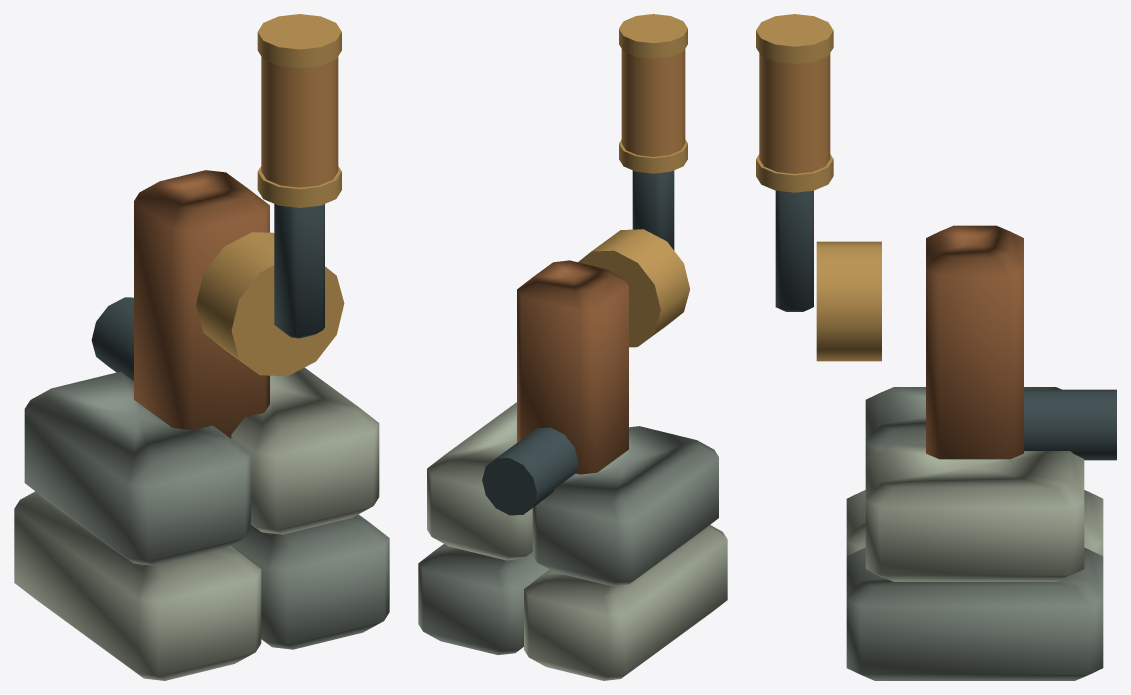
Rendered from registro.glb.
The picture shows the model from 3 angles, left to right: view 1: azimuth 30°, elevation 25°; view 2: azimuth 150°, elevation 25°; view 3: azimuth 270°, elevation 25°; orthographic projection. The views are drawn at different scales.
Parts seen in each view (by area): view 1: Malha_pedra, Malha_pedra_clara, Malha_madeira, Malha_latao2, Malha_madeira_clara, Malha_ferro, Malha_latao, Malha_ferro2; view 2: Malha_pedra, Malha_pedra_clara, Malha_madeira, Malha_latao2, Malha_madeira_clara, Malha_ferro2, Malha_latao, Malha_ferro; view 3: Malha_pedra, Malha_pedra_clara, Malha_madeira, Malha_latao2, Malha_madeira_clara, Malha_ferro2, Malha_latao, Malha_ferro.
Boxes of the visible parts, x1,y1,x2,y2 form: Malha_pedra: (24, 371, 389, 649); Malha_pedra_clara: (14, 367, 379, 680); Malha_madeira: (134, 170, 269, 438); Malha_latao2: (196, 232, 344, 376); Malha_madeira_clara: (261, 56, 338, 187); Malha_ferro: (274, 204, 324, 338); Malha_latao: (257, 14, 341, 207); Malha_ferro2: (91, 297, 133, 380); Malha_pedra: (418, 426, 718, 654); Malha_pedra_clara: (427, 402, 727, 680); Malha_madeira: (517, 260, 628, 474); Malha_latao2: (578, 229, 689, 347); Malha_madeira_clara: (621, 49, 685, 156); Malha_ferro2: (482, 427, 578, 515); Malha_latao: (619, 14, 687, 173); Malha_ferro: (632, 170, 674, 250); Malha_pedra: (846, 387, 1103, 680); Malha_pedra_clara: (846, 444, 1103, 581); Malha_madeira: (926, 225, 1023, 459); Malha_latao2: (816, 241, 881, 361); Malha_madeira_clara: (759, 53, 830, 173); Malha_ferro2: (1024, 389, 1116, 460); Malha_latao: (756, 14, 833, 192); Malha_ferro: (775, 190, 813, 311).
Bounding box in the file's own units: 0.392 × 0.97 × 0.5288.
